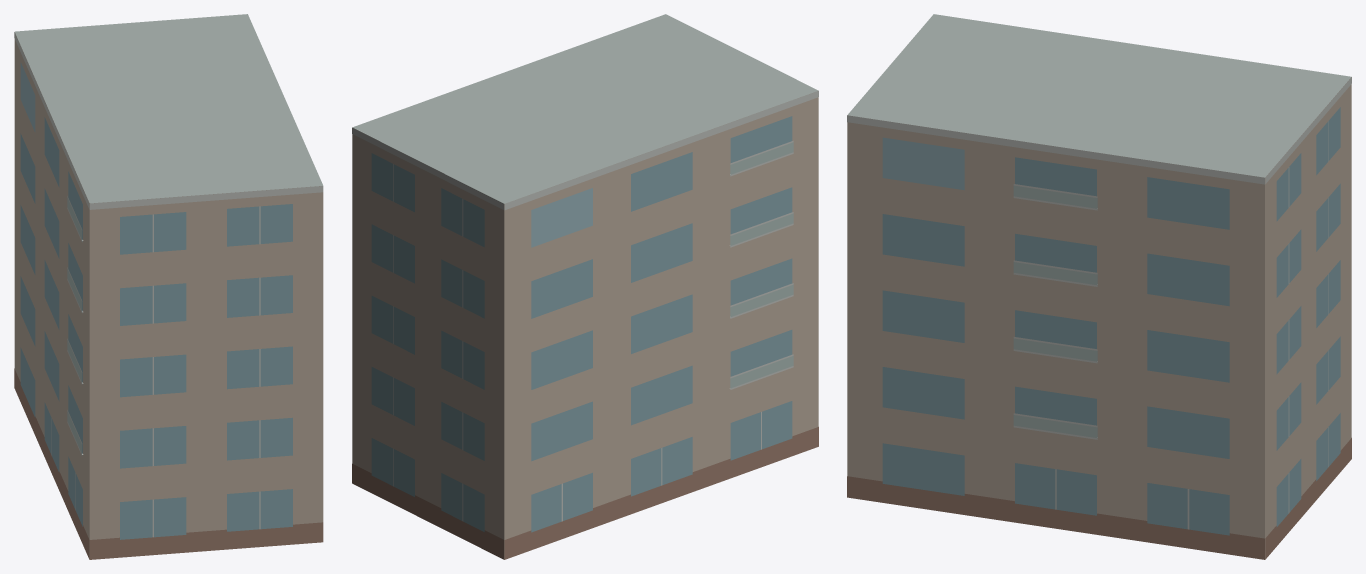
Rendered from survey-upis-33015750.glb.
The picture shows the model from 3 angles, left to right: view 1: azimuth 30°, elevation 25°; view 2: azimuth 150°, elevation 25°; view 3: azimuth 270°, elevation 25°; orthographic projection. The views are drawn at different scales.
Visible parts, largest first — view 1: survey-upis-33015750.tmp; view 2: survey-upis-33015750.tmp; view 3: survey-upis-33015750.tmp.
Boxes of the visible parts, x1,y1,x2,y2 form: survey-upis-33015750.tmp: (14,14,323,559); survey-upis-33015750.tmp: (352,14,818,559); survey-upis-33015750.tmp: (847,14,1351,559).
Size of the model in its own units: 12.32 by 13.4 by 16.04.
